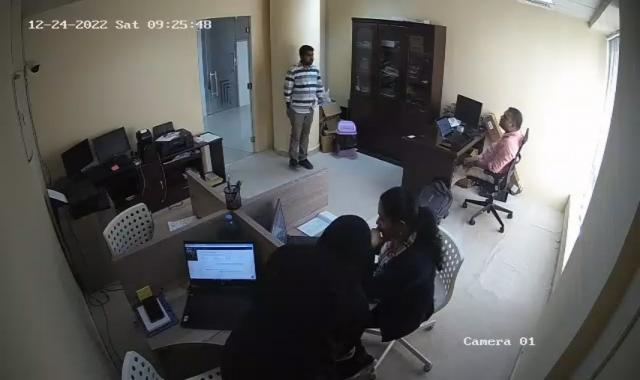no_hairnet: (325, 214, 374, 268), (375, 186, 419, 242), (498, 106, 524, 133), (298, 44, 318, 68)
